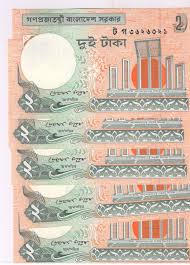2_taka: (17, 14, 188, 113), (22, 184, 189, 221), (17, 227, 189, 262), (18, 149, 187, 179), (18, 119, 183, 144)
